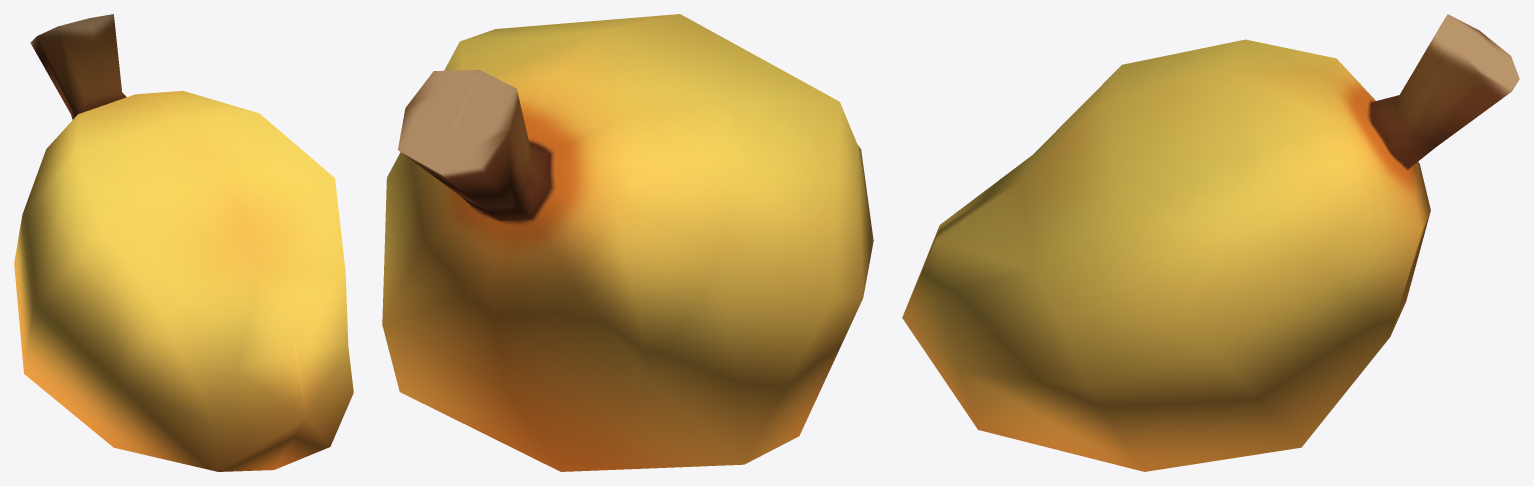
The model's file is mango.fbx.
3 views of the same model, side by side, from view 1: azimuth 30°, elevation 25°; view 2: azimuth 150°, elevation 25°; view 3: azimuth 270°, elevation 25° (orthographic). The views are drawn at different scales.
Parts seen in each view (by area): view 1: Mango; view 2: Mango; view 3: Mango.
Part boxes in pixels (x1,y1,x2,y2): Mango: (14, 14, 353, 471); Mango: (382, 14, 873, 471); Mango: (902, 14, 1519, 471).
Size of the model in its own units: 0.7638 by 0.8402 by 1.14.
